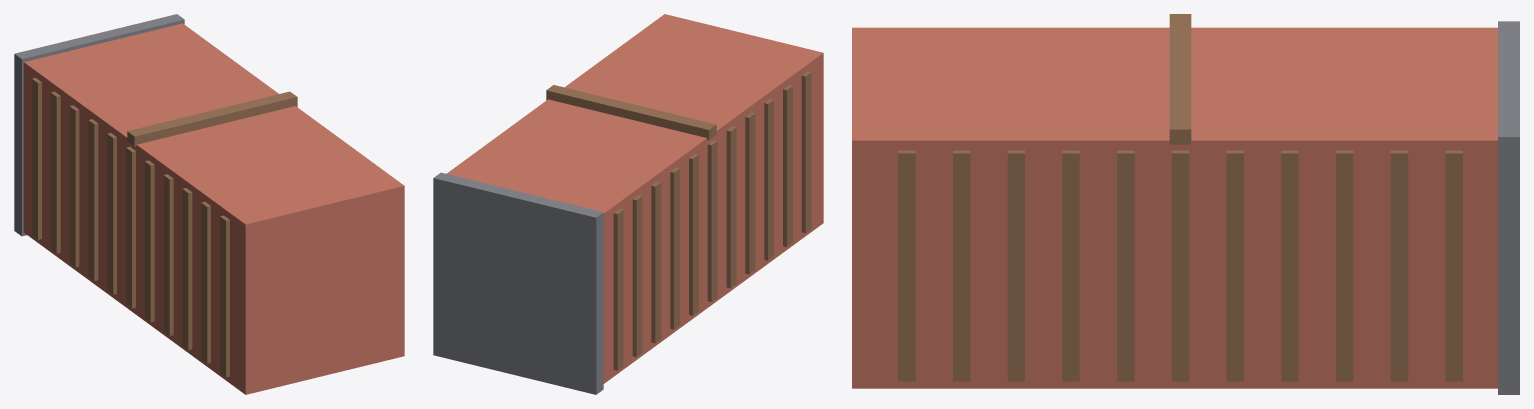
File: wasteland_container_red.glb
The picture shows the model from 3 angles, left to right: view 1: azimuth 30°, elevation 25°; view 2: azimuth 150°, elevation 25°; view 3: azimuth 270°, elevation 25°; orthographic projection. The views are drawn at different scales.
Visible parts, largest first — view 1: Prop_ContainerRed; view 2: Prop_ContainerRed; view 3: Prop_ContainerRed.
Boxes of the visible parts, x1=… form: Prop_ContainerRed: x1=14, y1=14, x2=404, y2=394; Prop_ContainerRed: x1=433, y1=14, x2=823, y2=394; Prop_ContainerRed: x1=852, y1=14, x2=1519, y2=394.
Bounding box in the file's own units: 2.56 × 2.67 × 6.1.
